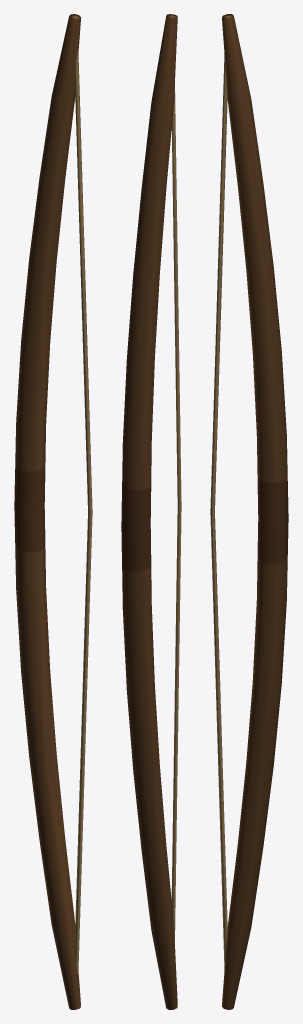
The model's file is arc-egyptien.glb.
The picture shows the model from 3 angles, left to right: view 1: azimuth 90°, elevation 25°; view 2: azimuth 150°, elevation 25°; view 3: azimuth 270°, elevation 25°; orthographic projection.
Parts seen in each view (by area): view 1: arc-egyptien; view 2: arc-egyptien; view 3: arc-egyptien.
Boxes of the visible parts, x1=… form: arc-egyptien: x1=14, y1=14, x2=92, y2=1009; arc-egyptien: x1=121, y1=14, x2=181, y2=1009; arc-egyptien: x1=210, y1=14, x2=288, y2=1009.
Bounding box in the file's own units: 0.0504 × 1.44 × 0.103.
1 material, 1 textured.
